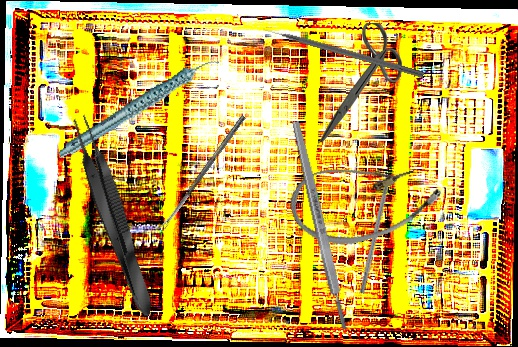Cannula: (283, 139, 448, 259)
Handpiece: (45, 56, 233, 160)
Hook Surgical: (262, 24, 425, 78), (358, 158, 397, 295)
Iris Scissors: (319, 23, 402, 142)
Scalpel Handle: (290, 120, 350, 331)
Surgical Spoon: (160, 114, 246, 230)
Tissue Forceps: (64, 110, 162, 323)
